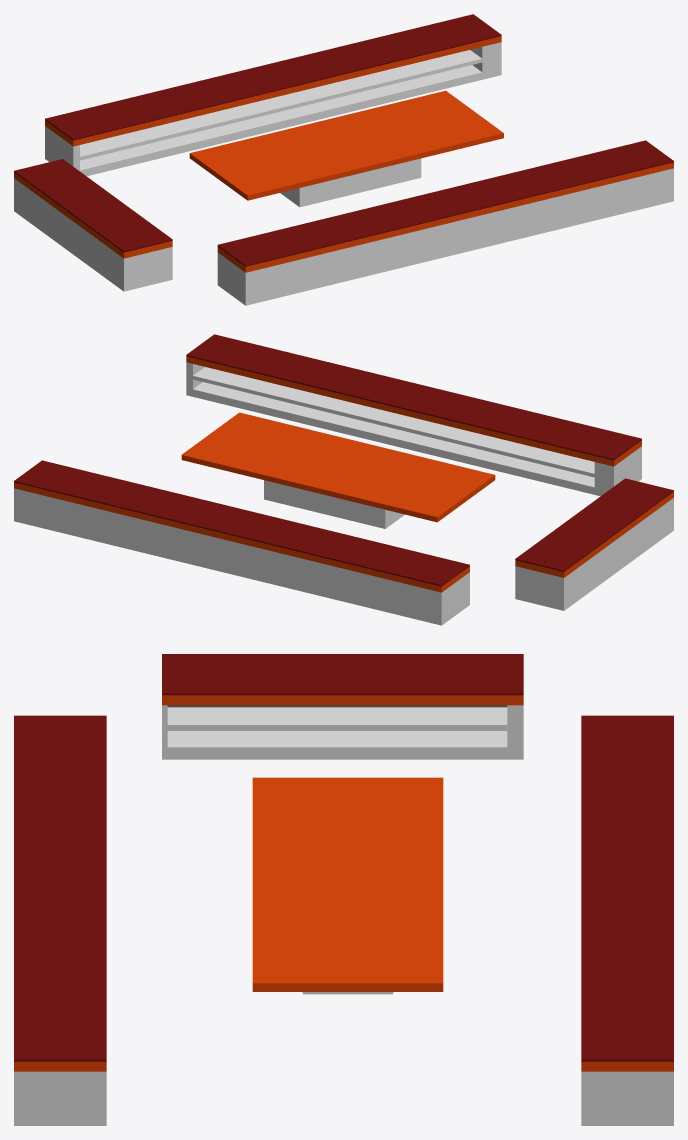
The model's file is makerspace.fbx.
3 renders of one model, top to bottom at view 1: azimuth 30°, elevation 25°; view 2: azimuth 150°, elevation 25°; view 3: azimuth 270°, elevation 25°, orthographic. The views are drawn at different scales.
Parts seen in each view (by area): view 1: Cube.174, Cube.064, Cube.043, Cube.086, Cube.085, Cube.066, Cube.090; view 2: Cube.174, Cube.043, Cube.064, Cube.086, Cube.085, Cube.066, Cube.090; view 3: Cube.174, Cube.086, Cube.085, Cube.066, Cube.090, Cube.043, Cube.064.
Part boxes in pixels (left/top/right/bottom): Cube.174: left=189, top=90, right=503, bottom=207; Cube.064: left=217, top=162, right=673, bottom=305; Cube.043: left=45, top=36, right=501, bottom=176; Cube.086: left=217, top=140, right=673, bottom=266; Cube.085: left=45, top=14, right=501, bottom=140; Cube.066: left=14, top=172, right=172, bottom=291; Cube.090: left=14, top=159, right=172, bottom=252; Cube.174: left=181, top=412, right=495, bottom=528; Cube.043: left=14, top=482, right=469, bottom=625; Cube.064: left=186, top=356, right=641, bottom=496; Cube.086: left=186, top=334, right=641, bottom=460; Cube.085: left=14, top=460, right=469, bottom=586; Cube.066: left=515, top=492, right=673, bottom=610; Cube.090: left=515, top=478, right=673, bottom=571; Cube.174: left=252, top=777, right=443, bottom=994; Cube.086: left=14, top=715, right=106, bottom=1061; Cube.085: left=581, top=715, right=673, bottom=1061; Cube.066: left=162, top=695, right=523, bottom=759; Cube.090: left=162, top=654, right=523, bottom=695; Cube.043: left=581, top=1061, right=673, bottom=1125; Cube.064: left=14, top=1061, right=106, bottom=1125.
Bounding box in the file's own units: 1700 × 131 × 1170.
